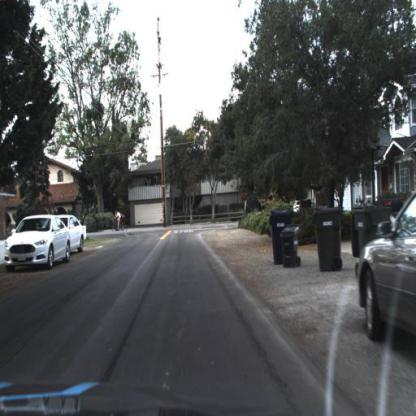biker: (109, 210, 130, 233), (115, 209, 124, 230), (122, 210, 127, 229)
car: (356, 184, 416, 349), (4, 216, 70, 273), (61, 213, 88, 255), (69, 214, 87, 258)
